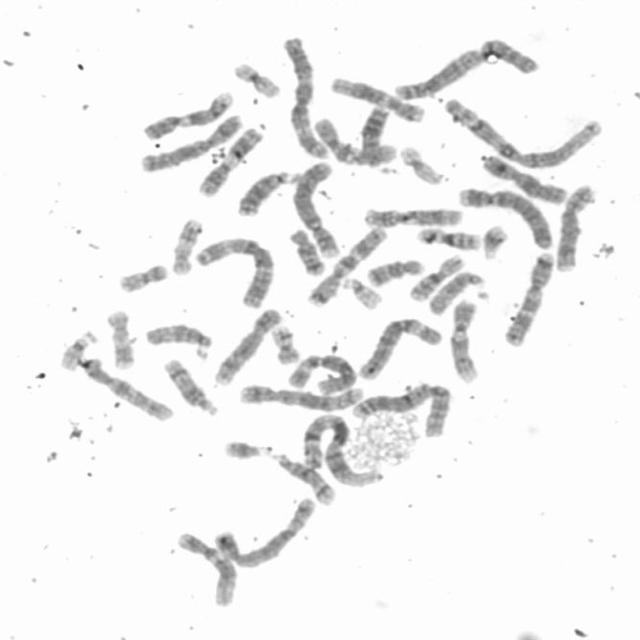A1: (440, 92, 606, 170), (296, 409, 385, 488)
A2: (388, 34, 540, 102), (346, 376, 456, 440)
A3: (277, 32, 329, 160), (191, 232, 277, 309)
B4: (454, 182, 556, 250), (288, 156, 345, 261)
B5: (209, 492, 319, 569), (235, 380, 367, 412)
C10: (75, 353, 176, 423), (311, 113, 398, 166)
C11: (193, 122, 266, 198), (358, 202, 466, 229)
C12: (171, 526, 241, 608), (327, 71, 429, 124)
C6: (355, 312, 445, 382), (282, 350, 360, 394)
C7: (304, 221, 392, 308), (499, 246, 558, 348)
C8: (209, 302, 285, 387), (551, 179, 600, 273)
C9: (138, 86, 237, 140), (446, 294, 483, 385)
D13: (233, 166, 301, 218), (356, 101, 394, 167)
D14: (160, 353, 222, 418), (270, 448, 339, 506)
D15: (140, 318, 217, 361), (425, 267, 488, 317)
E16: (403, 250, 468, 302), (413, 222, 484, 251)
E17: (167, 213, 205, 277), (102, 305, 139, 370)
E18: (284, 224, 328, 277), (362, 253, 426, 288)
F19: (229, 58, 285, 100), (395, 141, 447, 186)
F20: (114, 259, 171, 294), (266, 321, 303, 366)
G21: (219, 434, 278, 462), (478, 218, 511, 260)
G22: (54, 326, 100, 372), (338, 272, 385, 310)
X: (136, 110, 246, 174), (477, 150, 570, 206)
